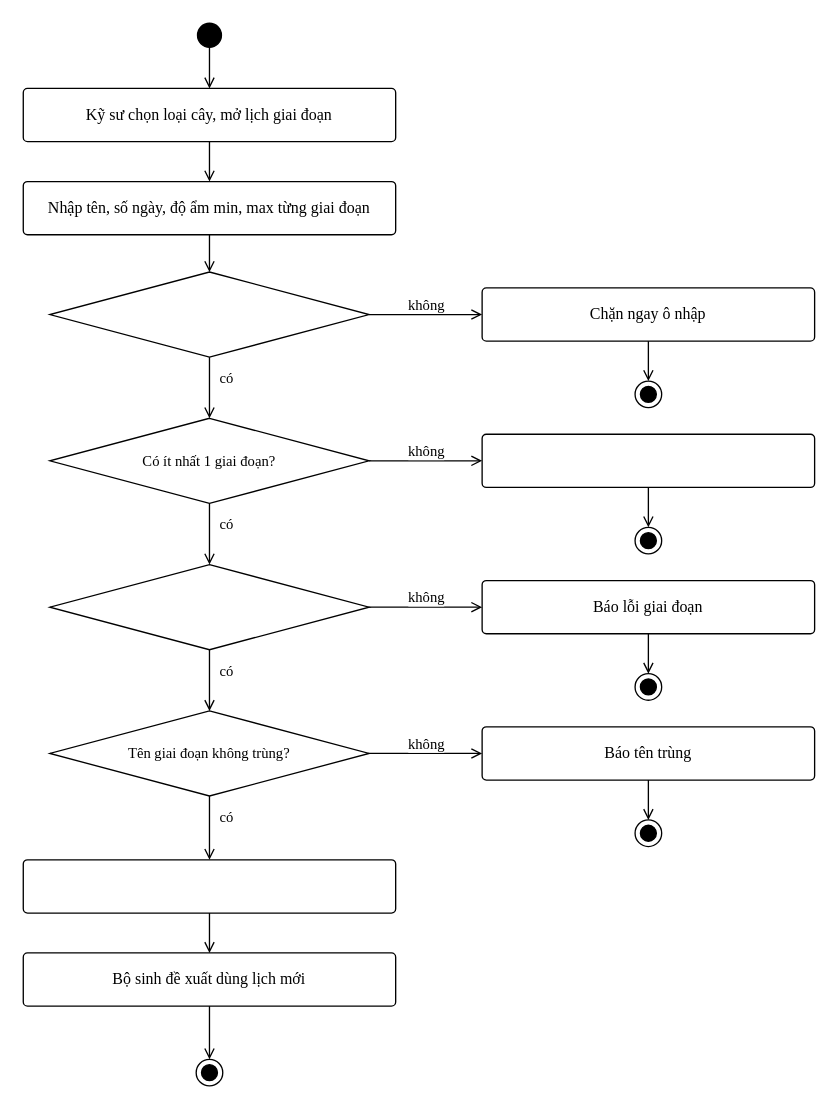
The diagram is 838 pixels wide and 1109 high, and some of its shapes have lost their labels. The centre of each missing label's shape, as x and y in pixels:
"Báo cần 1 giai đoạn" belongs at (648,460).
"Giao diện: không âm, không quá 100%?" belongs at (209,314).
"Mỗi giai đoạn hợp lệ, min < max?" belongs at (209,606).
"Thay toàn bộ lịch giai đoạn cũ" belongs at (209,886).
